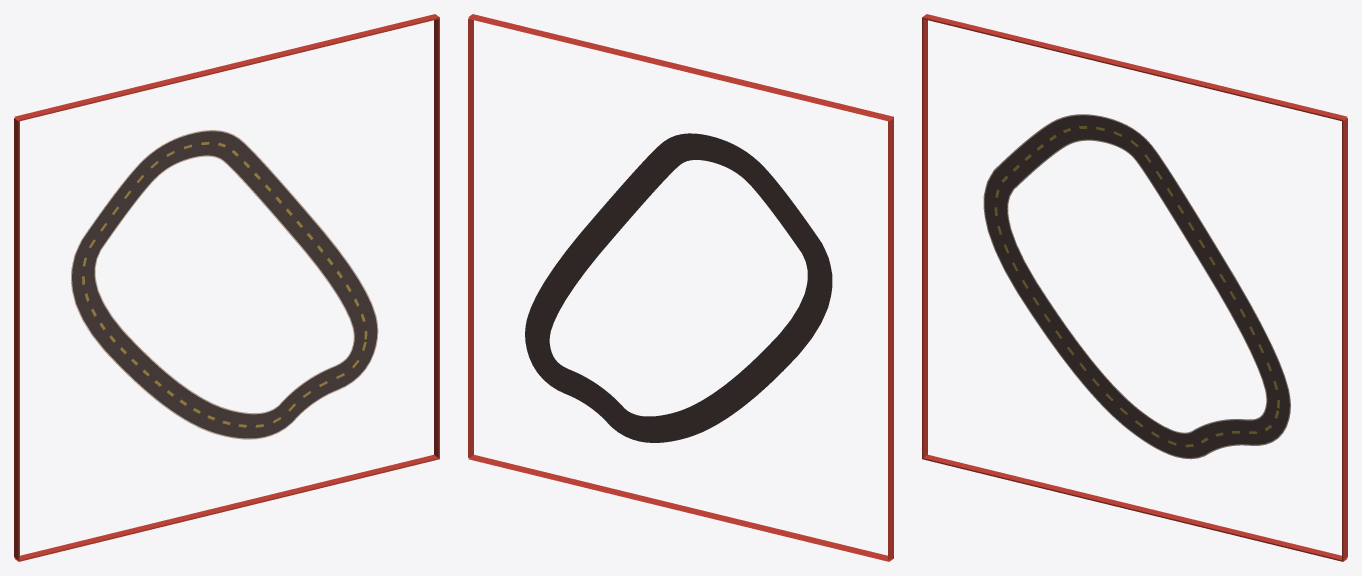
Rendered from track.obj.
The picture shows the model from 3 angles, left to right: view 1: azimuth 30°, elevation 25°; view 2: azimuth 150°, elevation 25°; view 3: azimuth 330°, elevation 25°; orthographic projection.
Bounding box in the file's own units: 15.65 × 15.69 × 0.3.
4 materials, 4 textured.
